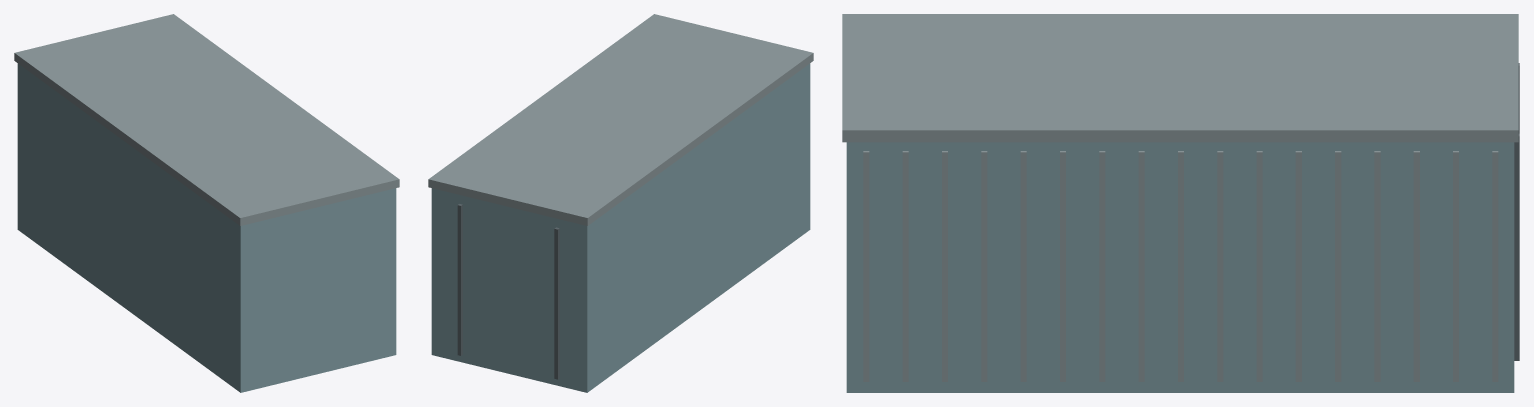
File: DF_MOD_Container.glb
3 views of the same model, side by side, from view 1: azimuth 30°, elevation 25°; view 2: azimuth 150°, elevation 25°; view 3: azimuth 270°, elevation 25° (orthographic). The views are drawn at different scales.
Parts seen in each view (by area): view 1: Body, Top_Rim; view 2: Body, Top_Rim, Door_Lock_-1, Door_Lock_1; view 3: Body, Top_Rim, Corrugation_0, Corrugation_2, Corrugation_3, Corrugation_4, Corrugation_5, Corrugation_6, Corrugation_7, Corrugation_9, Corrugation_10, Corrugation_12 (+8 smaller).
Boxes of the visible parts, box(x1,y1,x2,y2) form: Body: box(17, 63, 396, 392); Top_Rim: box(14, 14, 399, 225); Body: box(431, 63, 810, 392); Top_Rim: box(428, 14, 813, 225); Door_Lock_-1: box(554, 227, 559, 379); Door_Lock_1: box(457, 204, 462, 355); Body: box(846, 142, 1514, 392); Top_Rim: box(842, 14, 1518, 142); Corrugation_0: box(1492, 151, 1498, 381); Corrugation_2: box(1413, 151, 1419, 381); Corrugation_3: box(1374, 151, 1380, 381); Corrugation_4: box(1335, 151, 1341, 381); Corrugation_5: box(1295, 151, 1301, 381); Corrugation_6: box(1256, 151, 1262, 381); Corrugation_7: box(1217, 151, 1223, 381); Corrugation_9: box(1138, 151, 1144, 381); Corrugation_10: box(1099, 151, 1105, 381); Corrugation_12: box(1020, 151, 1026, 381).
Bounding box in the file's own units: 2.5 × 2.65 × 6.15.
